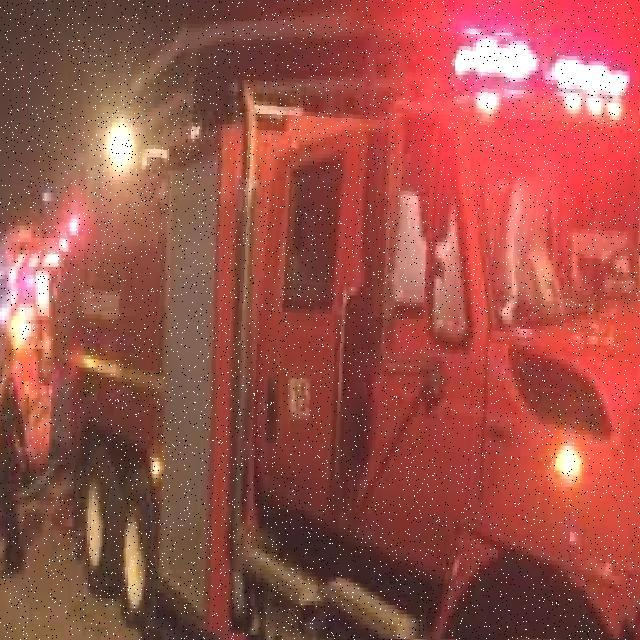pompier: (47, 20, 640, 640)
